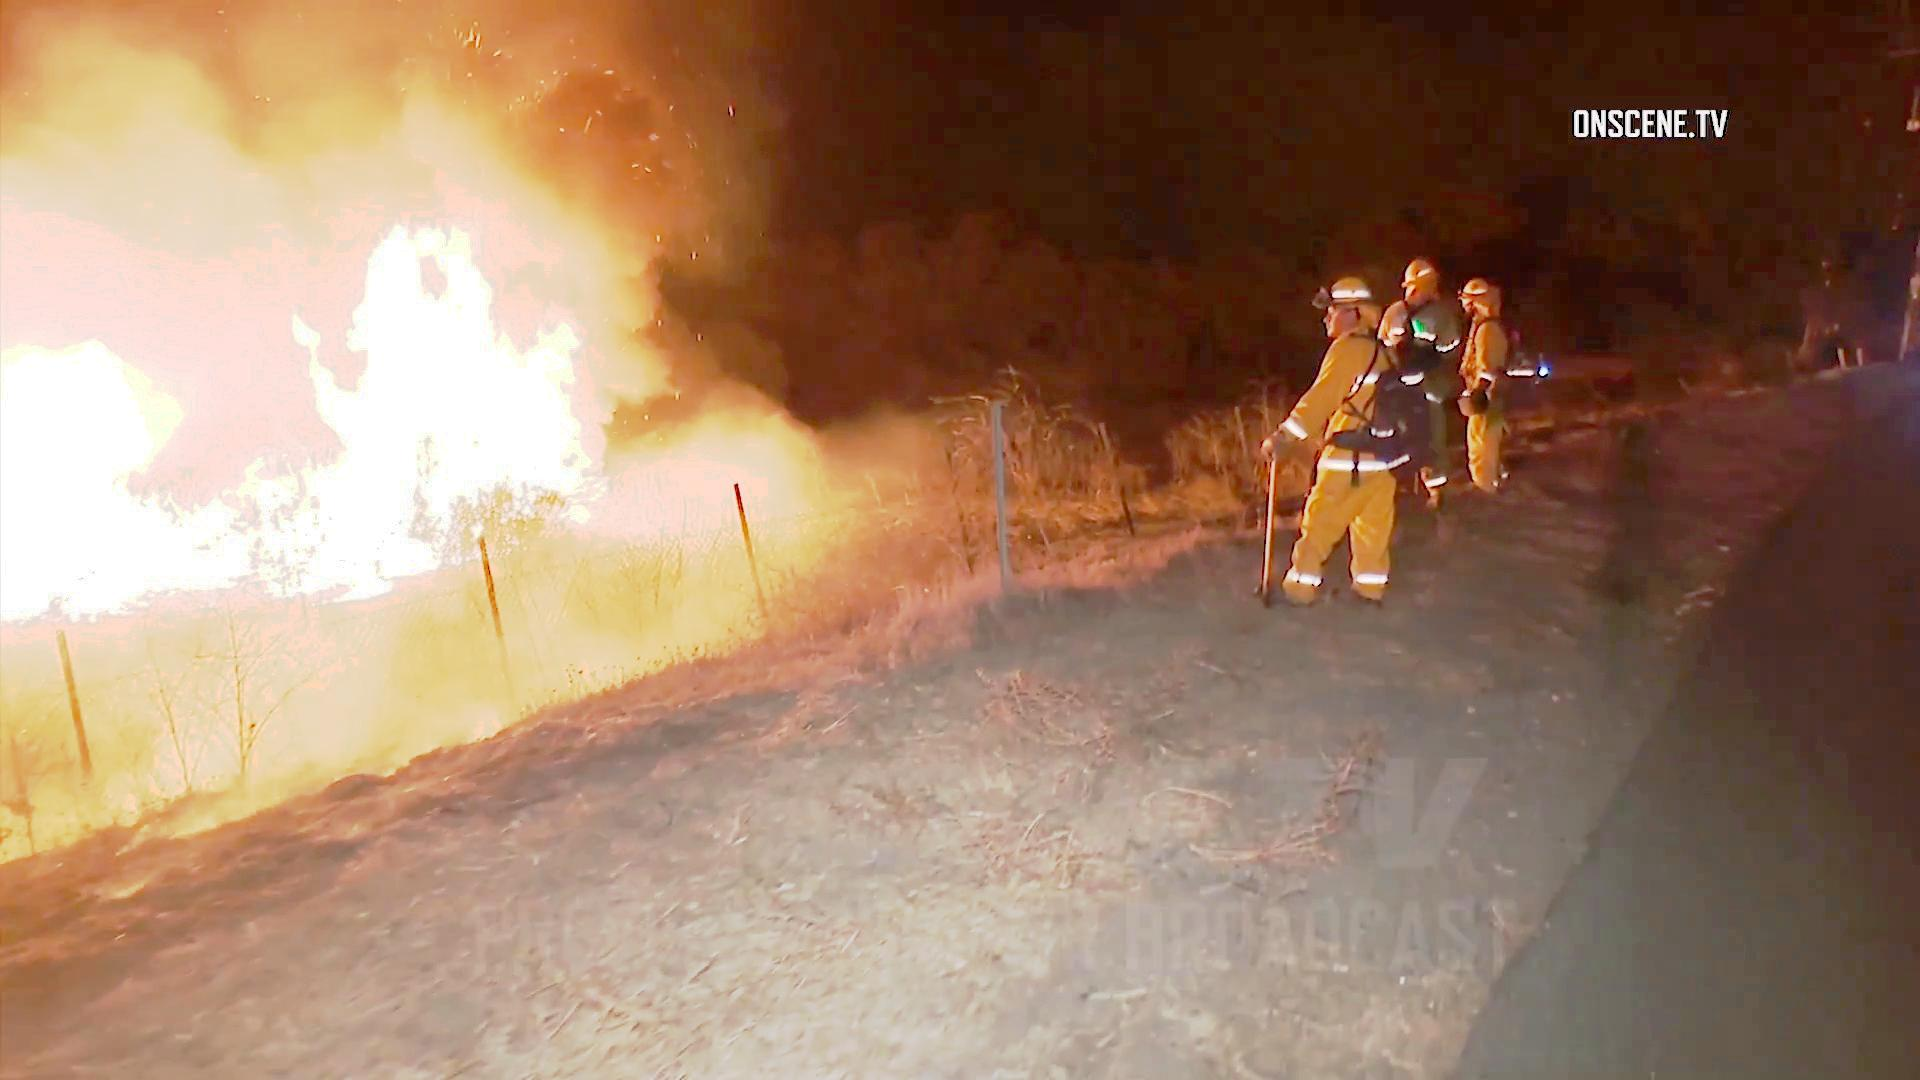fire: (262, 193, 613, 584), (0, 323, 258, 640)
smoke: (3, 3, 625, 179)
